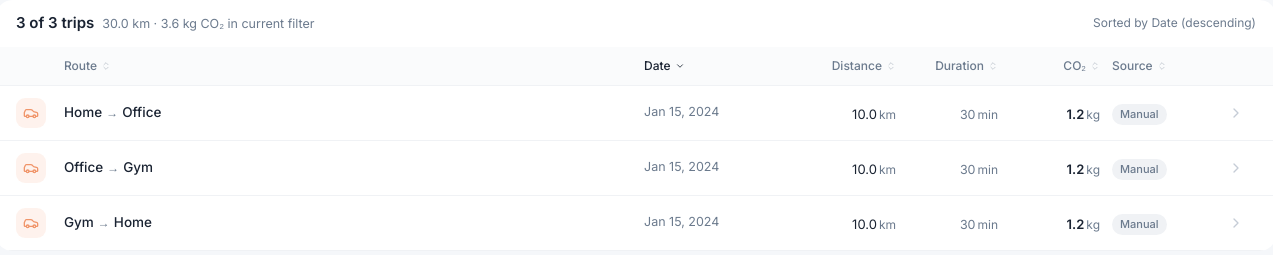
Test: TripsTable › clicking sort header on active key toggles desc→asc
This screenshot has width=1273, height=255.
First click: desc → asc
Click the button "Date" at (719, 66), box [644,56,794,74]
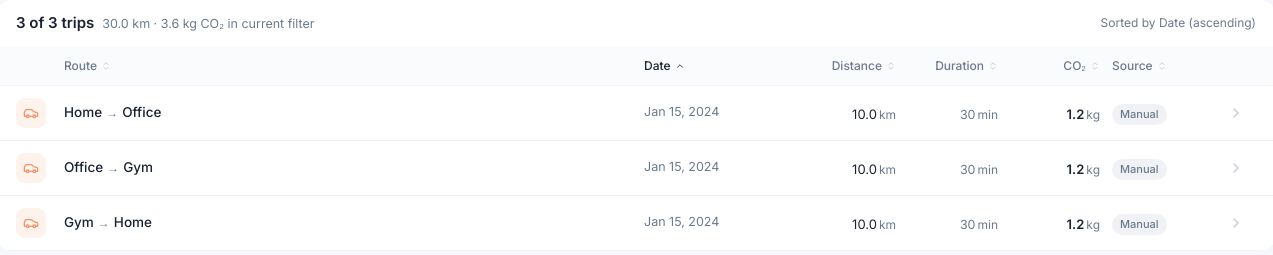
Expected: the text "Sorted by Date (ascending)" is shown, [1101,14,1256,32]
Second click: asc → desc
Click the button "Date" at (719, 66), box [644,56,794,74]
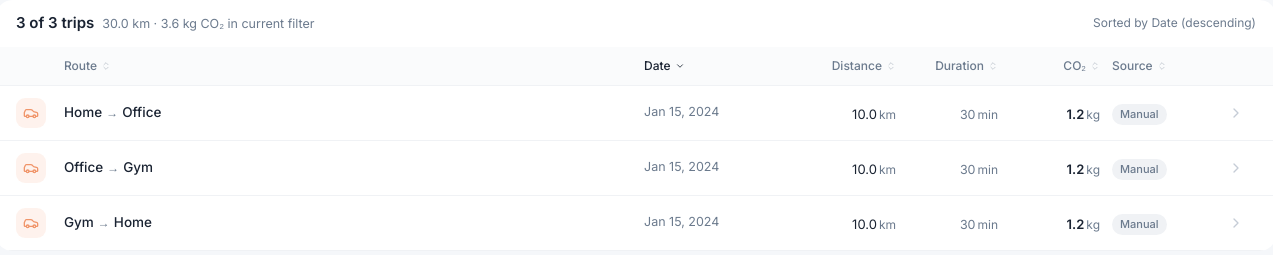
Expected: the text "Sorted by Date (descending)" is shown, [1093,14,1256,32]
